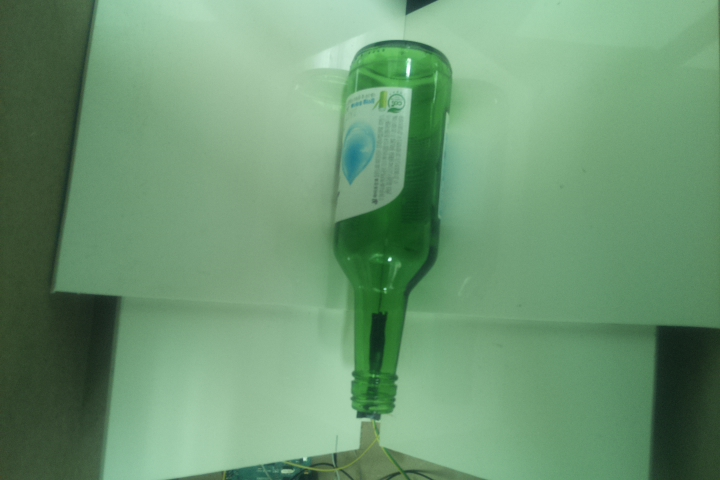soju: (333, 40, 453, 416)
